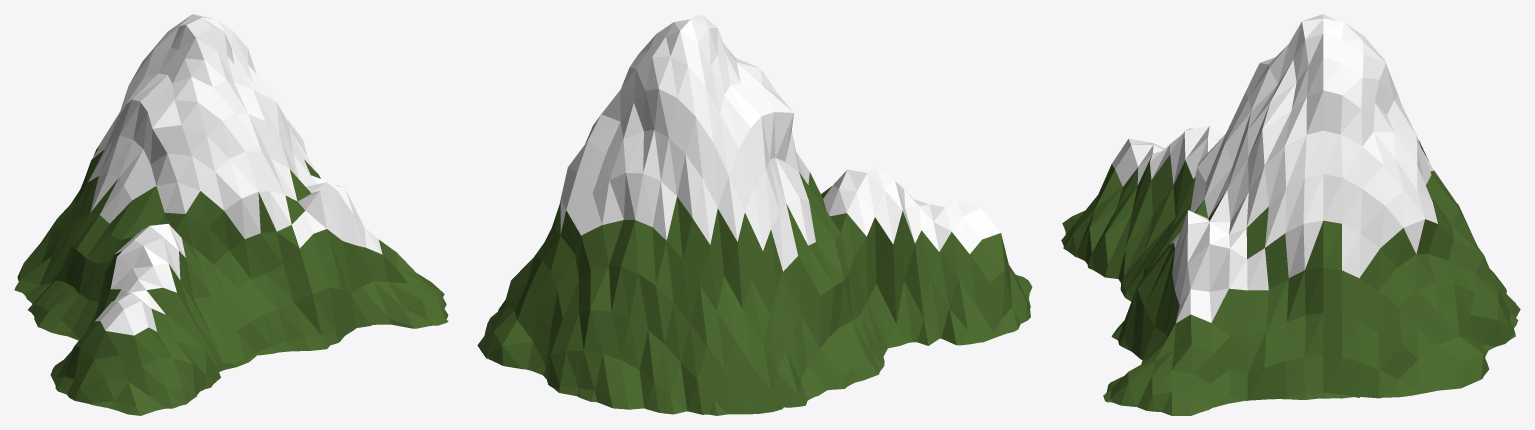
File: Terrain_Mountain_Grass_Snow_Capped_01.fbx
3 renders of one model, left to right at view 1: azimuth 30°, elevation 25°; view 2: azimuth 150°, elevation 25°; view 3: azimuth 270°, elevation 25°, orthographic. The views are drawn at different scales.
Parts seen in each view (by area): view 1: Terrain_Mountain_Grass_Snow_Capped_01; view 2: Terrain_Mountain_Grass_Snow_Capped_01; view 3: Terrain_Mountain_Grass_Snow_Capped_01.
Part boxes in pixels (left/top/right/bottom): Terrain_Mountain_Grass_Snow_Capped_01: left=14, top=14, right=448, bottom=415; Terrain_Mountain_Grass_Snow_Capped_01: left=477, top=14, right=1032, bottom=415; Terrain_Mountain_Grass_Snow_Capped_01: left=1061, top=14, right=1520, bottom=415.
Bounding box in the file's own units: 979 × 649 × 893.
